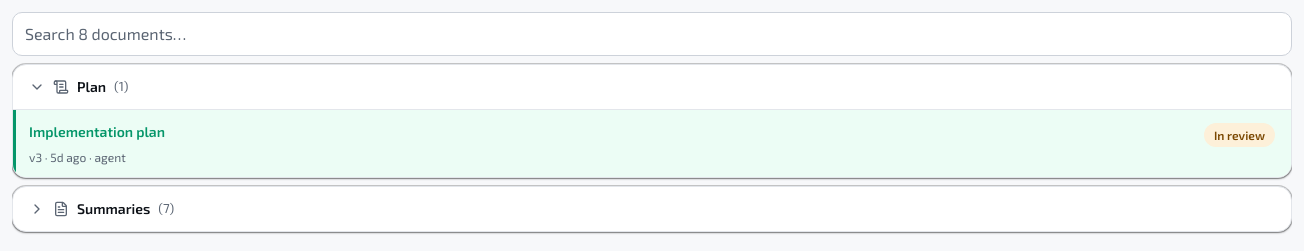
Test: DocumentList › typing in the search box filters across all sections and force-opens matches
This screenshot has width=1304, height=251.
Type "Summary 5" into the search field named "search documents" at (652, 34), box [12,12,1292,56]
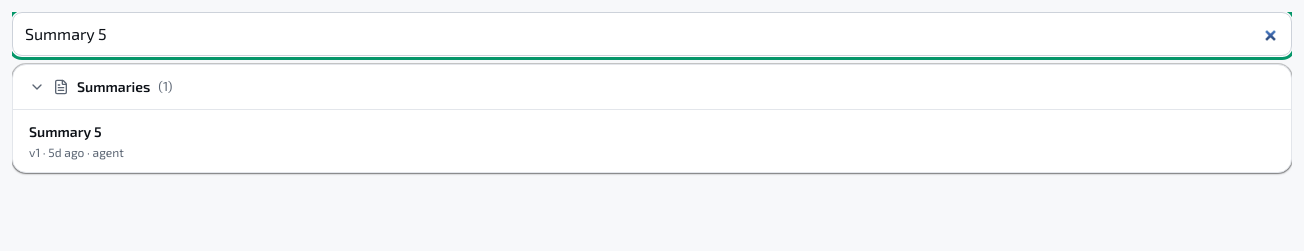
Expected: the number of links is 1, [29,123,124,159]
Expected: the link shows "Summary 5", [29,123,124,159]
